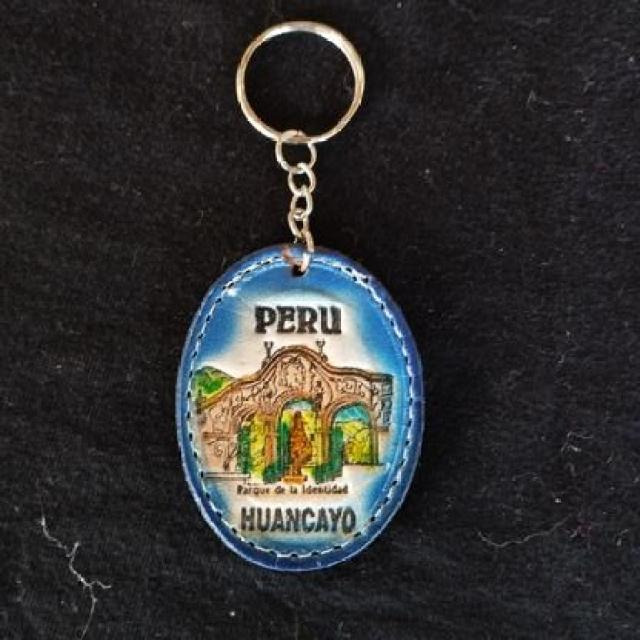Llavero: (174, 243, 426, 572)
